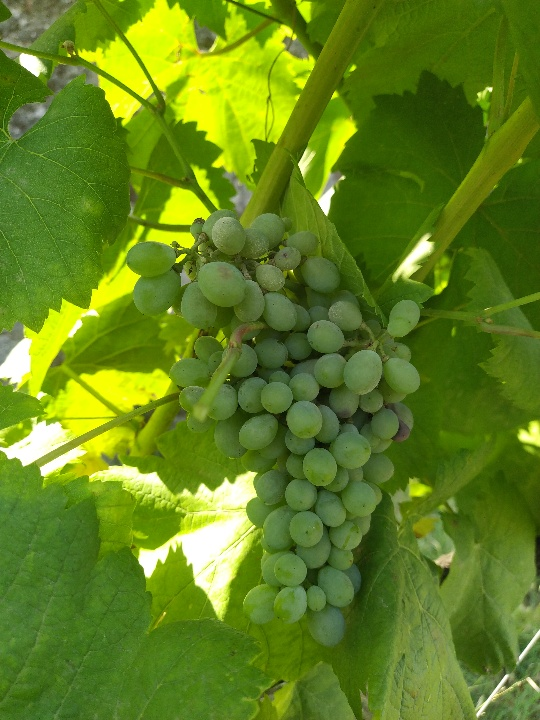grape: (120, 207, 425, 652), (58, 45, 99, 86)
